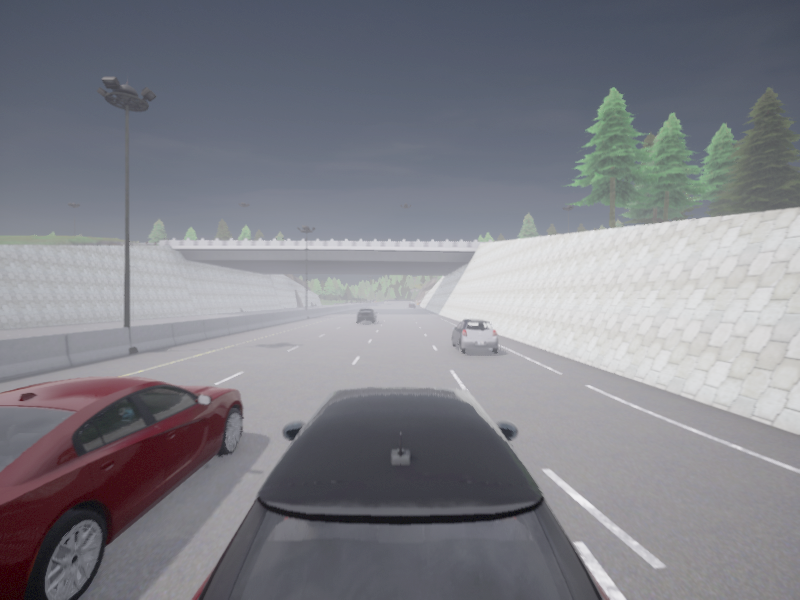vehicle: (191, 385, 610, 599), (0, 377, 242, 599), (452, 319, 497, 353), (357, 308, 377, 322), (408, 303, 414, 307)
